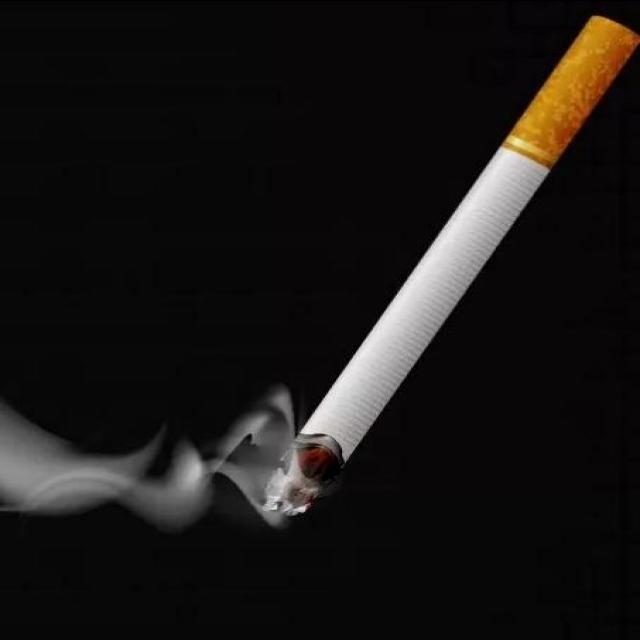cigarette: (242, 9, 638, 516)
